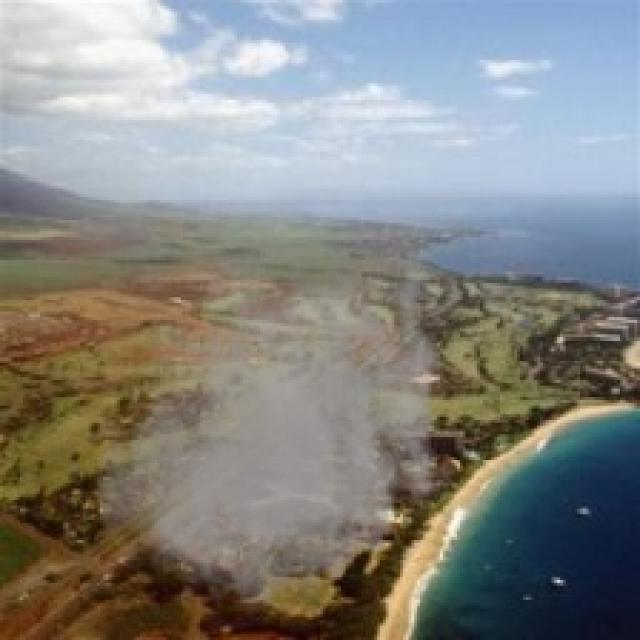smoke: (83, 243, 463, 626)
